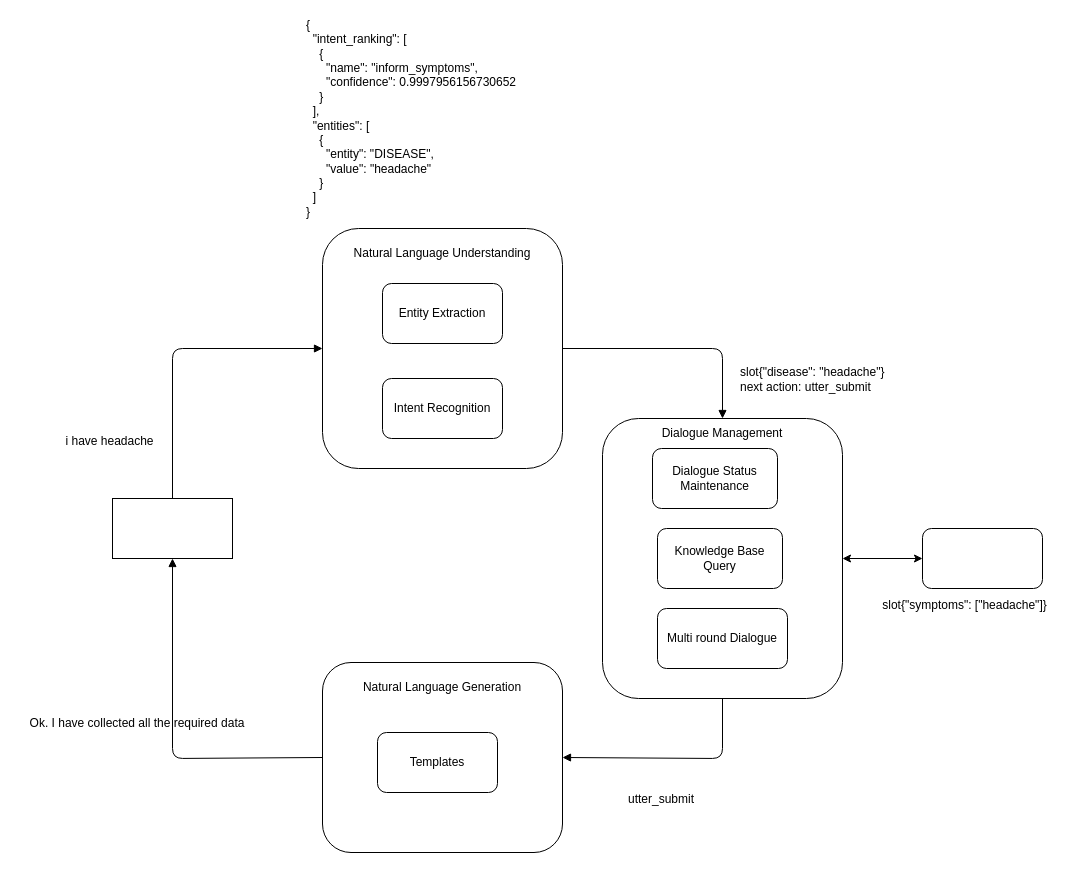
This 1070x870 diagram has some shape labels left out. The shapes that lost their labels are listed below. From the top down, each one's centre as x and y in pixels, then its label:
the point at 172,528: Web Client
the point at 982,558: Action Server
